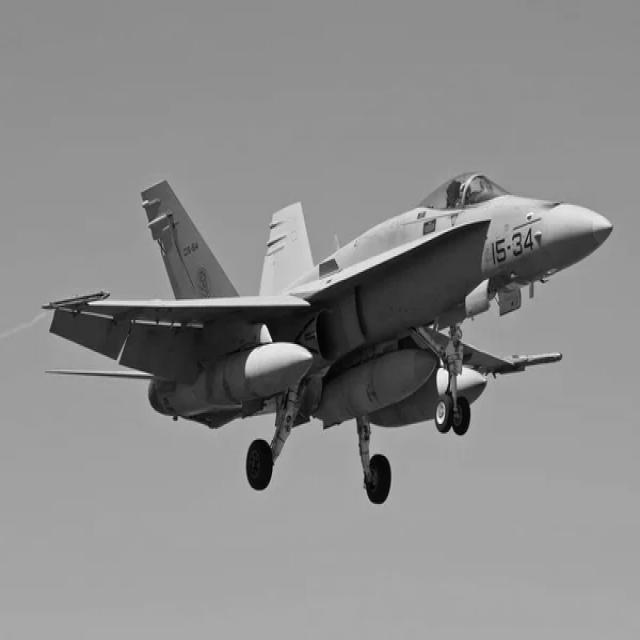Aircraft: (40, 133, 626, 495)
